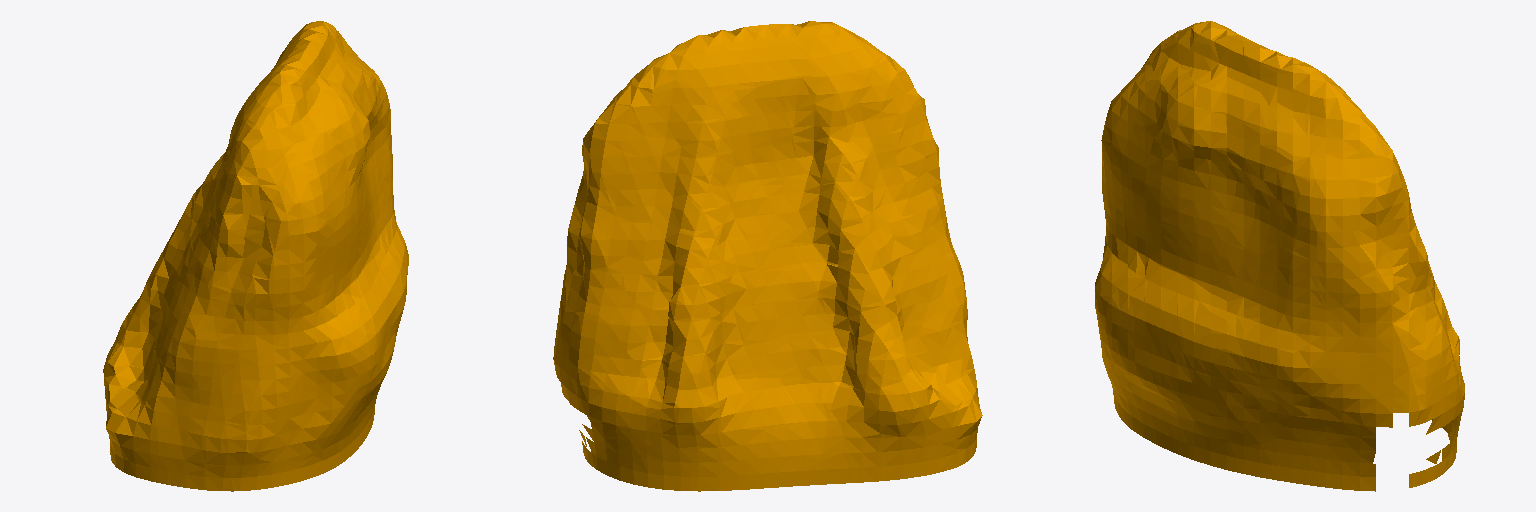
robot.urdf — mesh_object:
<robot name="mesh_object">
            <link name="base">
                <visual>
                    <geometry>
                        <mesh filename="cap_(headwear)_4_v000.obj" scale="1 1 1" />
                    </geometry>
                </visual>
                <collision>
                    <geometry>
                        <mesh filename="cap_(headwear)_4_v000.obj" scale="1 1 1" />
                    </geometry>
                </collision>
                <inertial>
                    <origin xyz="0.000000 0.000000 0.041306" rpy="0 0 0" />
                    <mass value="0.500000" />
                    <inertia ixx="0.01" iyy="0.01" izz="0.01" ixy="0" ixz="0" iyz="0" />
                </inertial>
            </link>
            </robot>

--- What the picture shows (computed from the rendered views, not written in the file) ---
Views: 3 orthographic renders of the robot side by side, from view 1: azimuth 30°, elevation 25°; view 2: azimuth 150°, elevation 25°; view 3: azimuth 270°, elevation 25°.
Model mesh_object with 1 links and 0 joints (none), rooted at base, posed all joints at 0.
Visible links, largest first — view 1: base; view 2: base; view 3: base.
Boxes of the visible links, x1,y1,x2,y2 form: base: (103,21,408,491); base: (553,21,982,491); base: (1095,21,1464,491).
Bounding box of the posed robot: 0.0758 × 0.0699 × 0.0826 m (x, y, z).
Meshes: 1 distinct files referenced, 1 mesh visuals loaded (1 OBJ).
